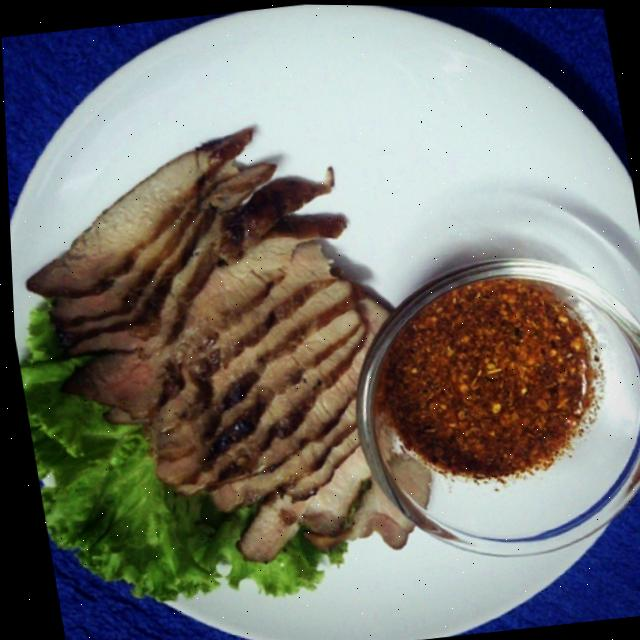猪肉菜式: (1, 40, 476, 640)
